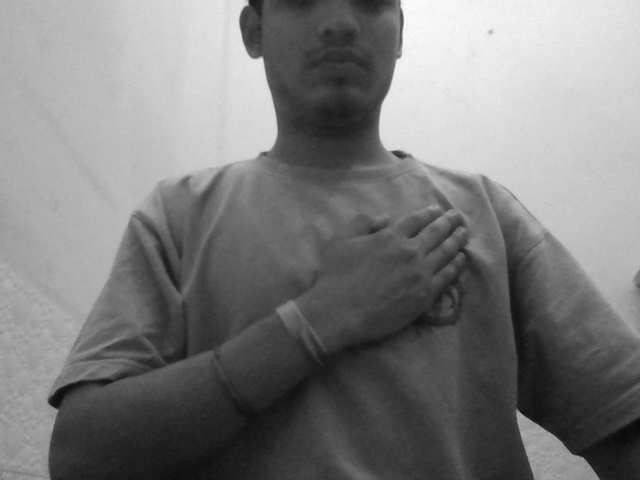Sorry: (280, 191, 505, 383)
